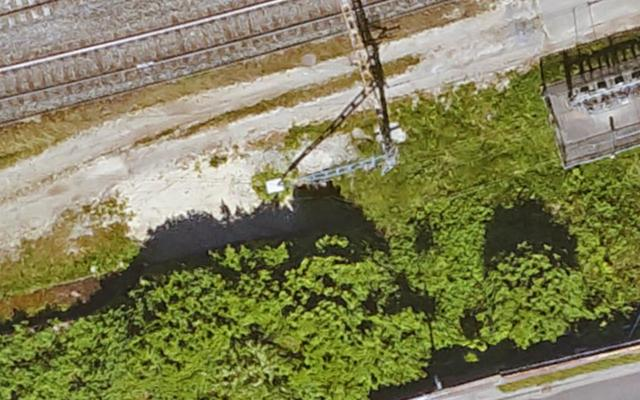tree: (124, 234, 423, 400), (485, 243, 580, 343)
